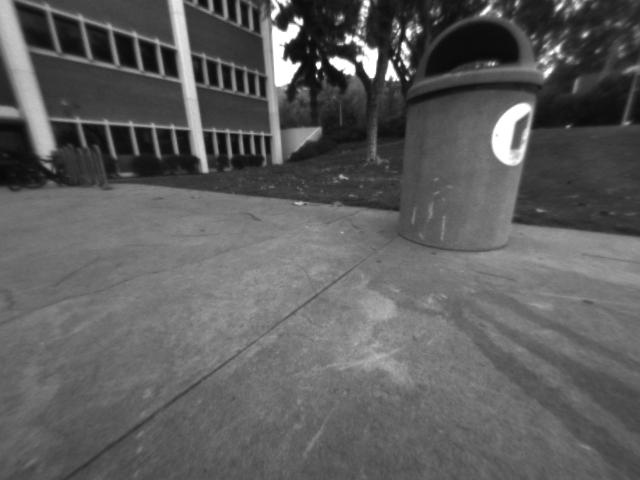trashcan: (399, 11, 547, 261)
